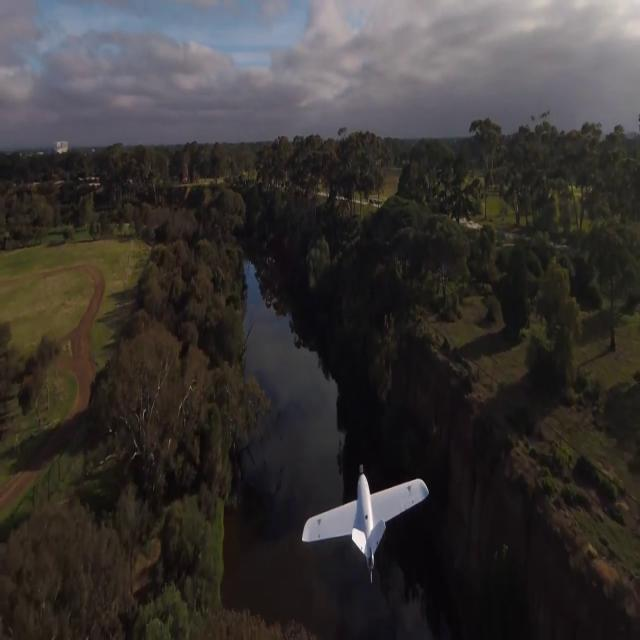iha: (336, 501, 398, 527)
